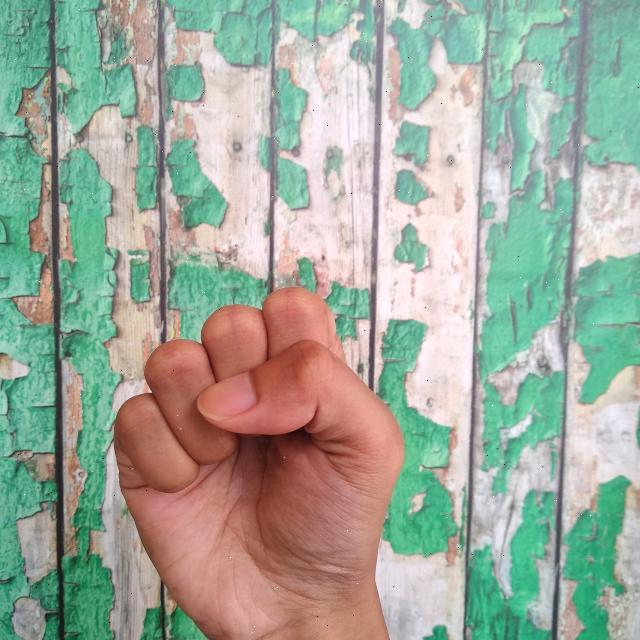S: (104, 273, 413, 640)
